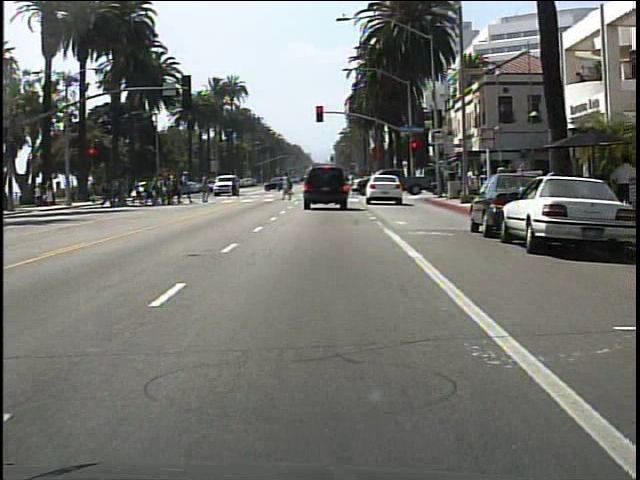person: (607, 153, 640, 237), (226, 170, 246, 202)
